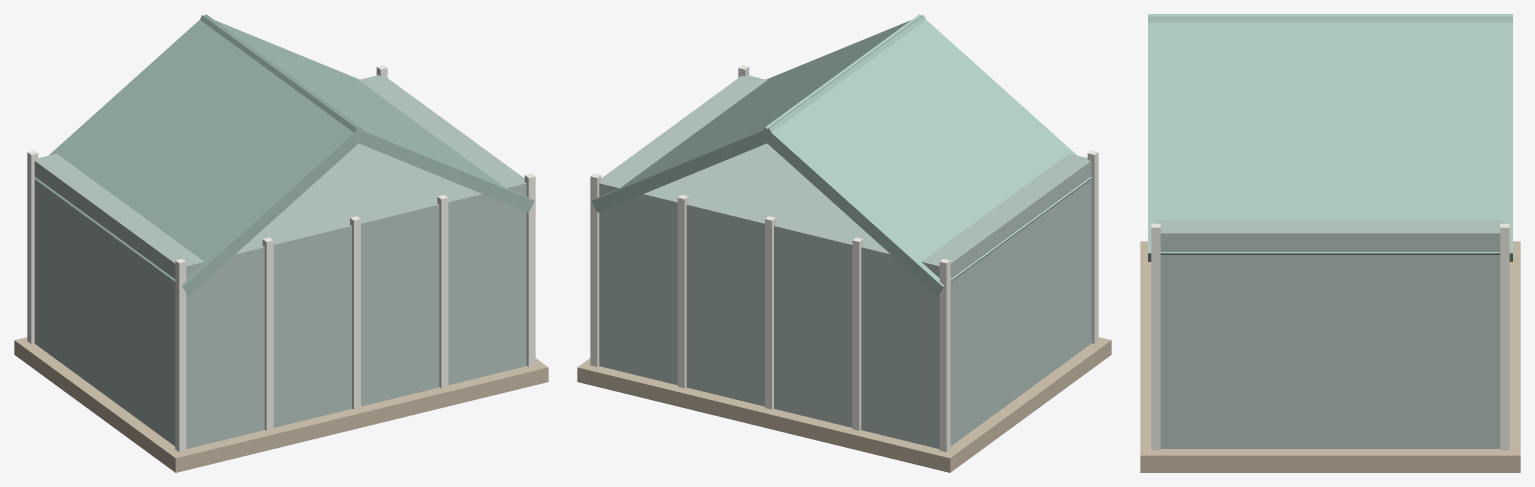
File: prop_district_greenhouse_ph.glb
3 renders of one model, left to right at view 1: azimuth 30°, elevation 25°; view 2: azimuth 150°, elevation 25°; view 3: azimuth 270°, elevation 25°, orthographic. The views are drawn at different scales.
Parts seen in each view (by area): view 1: prop_district_greenhouse; view 2: prop_district_greenhouse; view 3: prop_district_greenhouse.
Boxes of the visible parts, left/top/right/bottom form: prop_district_greenhouse: left=14, top=14, right=548, bottom=472; prop_district_greenhouse: left=577, top=14, right=1111, bottom=472; prop_district_greenhouse: left=1140, top=14, right=1520, bottom=472.
Size of the model in its own units: 3.2 by 2.44 by 2.4.
